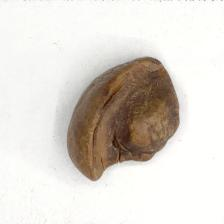NG: (90, 64, 177, 181)
